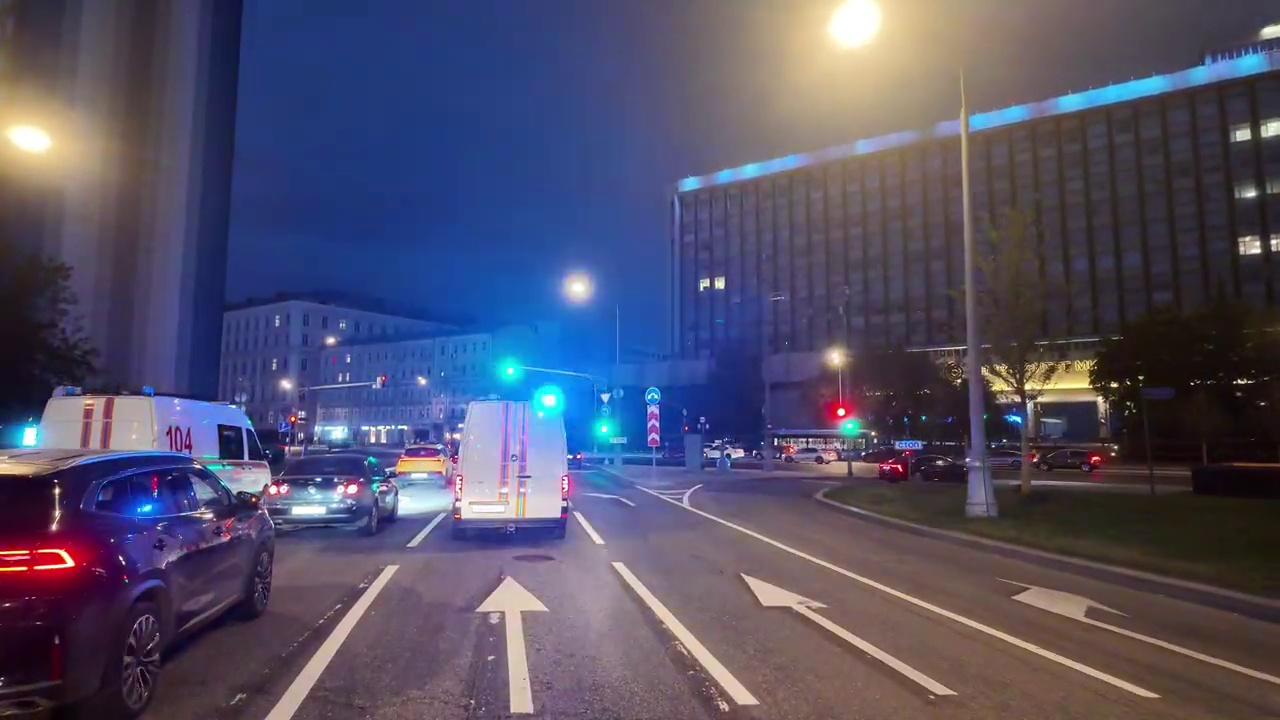acesa: (813, 1, 897, 59), (1, 115, 60, 164), (562, 272, 593, 302), (823, 344, 852, 372)
